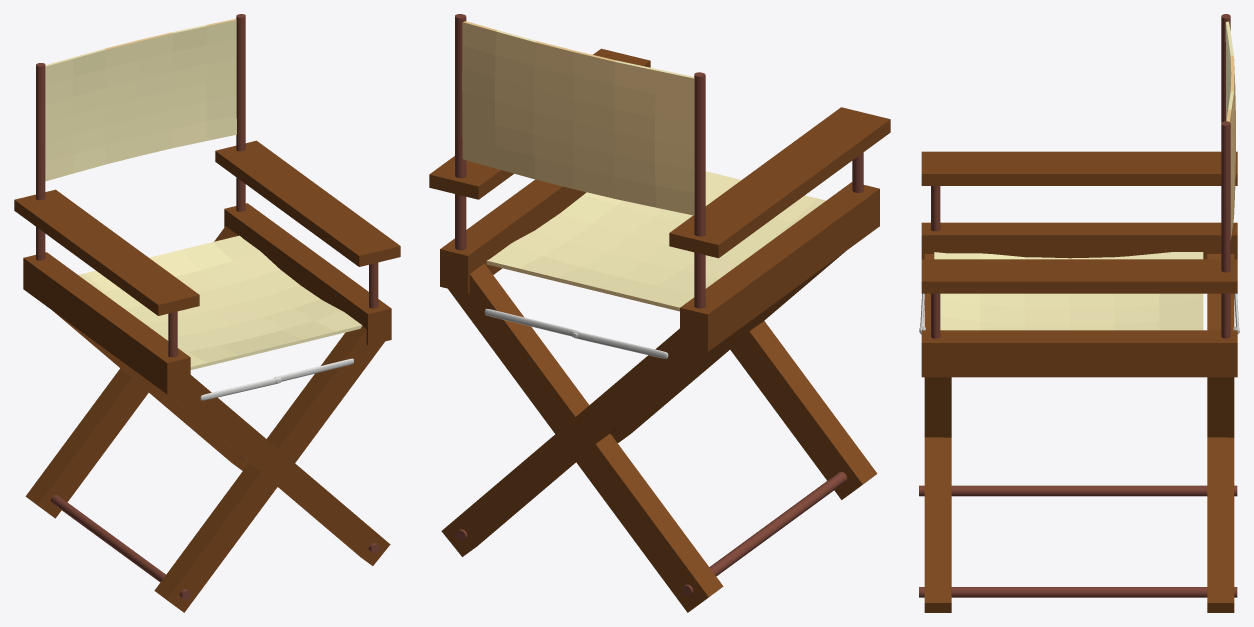
Rendered from Chair.fbx.
The picture shows the model from 3 angles, left to right: view 1: azimuth 30°, elevation 25°; view 2: azimuth 150°, elevation 25°; view 3: azimuth 270°, elevation 25°; orthographic projection. The views are drawn at different scales.
Visible parts, largest first — view 1: Plane; view 2: Plane; view 3: Plane.
Boxes of the visible parts, <box> form: Plane: <box>14,14,400,612</box>; Plane: <box>429,14,890,612</box>; Plane: <box>919,14,1239,612</box>.
Bounding box in the file's own units: 80.6 × 143 × 84.24.
